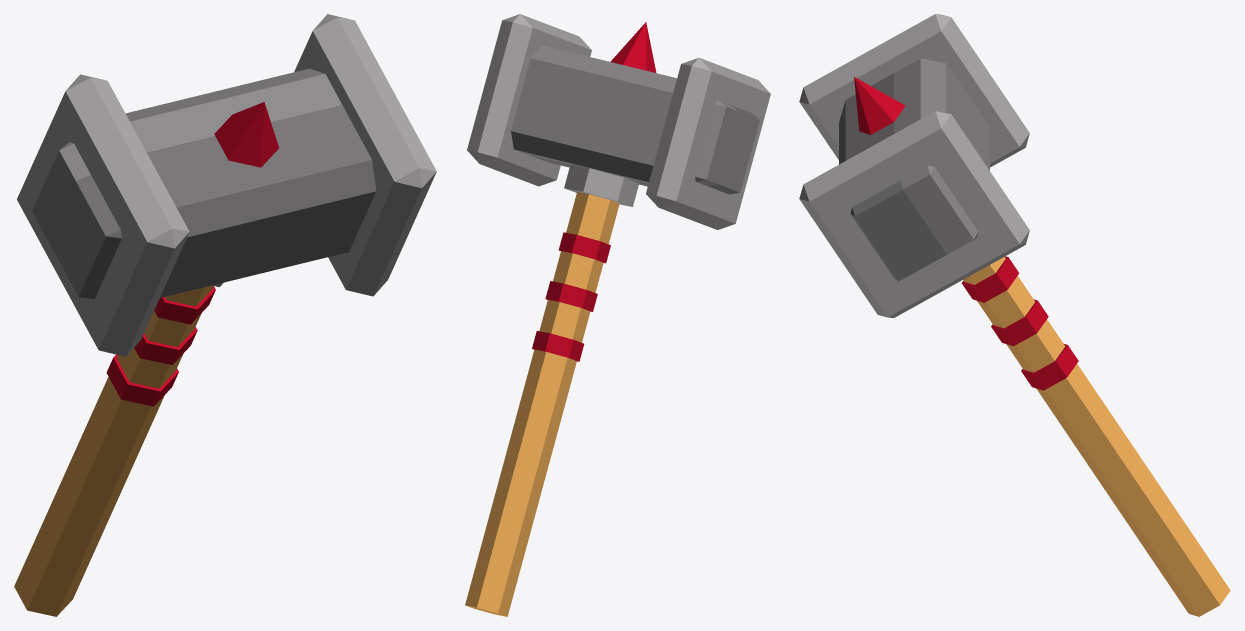
File: hammer.obj
3 views of the same model, side by side, from view 1: azimuth 30°, elevation 25°; view 2: azimuth 150°, elevation 25°; view 3: azimuth 270°, elevation 25° (orthographic). The views are drawn at different scales.
Parts seen in each view (by area): view 1: Cube.003_Cube.005, Cube.002_Cube.004, Cylinder, Cone, Cylinder.007, Cylinder.006, Cylinder.005; view 2: Cube.003_Cube.005, Cube.002_Cube.004, Cylinder, Cylinder.004, Cone, Cylinder.005, Cylinder.006, Cylinder.007; view 3: Cube.002_Cube.004, Cylinder, Cube.003_Cube.005, Cone, Cylinder.006, Cylinder.007, Cylinder.005.
Part boxes in pixels (<box>): Cube.003_Cube.005: <box>32,68,376,298</box>; Cube.002_Cube.004: <box>17,14,436,356</box>; Cylinder: <box>14,285,213,616</box>; Cone: <box>214,102,278,167</box>; Cylinder.007: <box>106,354,178,406</box>; Cylinder.006: <box>134,327,197,364</box>; Cylinder.005: <box>154,286,215,324</box>; Cube.003_Cube.005: <box>511,45,759,194</box>; Cube.002_Cube.004: <box>467,14,770,229</box>; Cylinder: <box>465,192,619,616</box>; Cylinder.004: <box>564,164,639,206</box>; Cone: <box>610,22,656,72</box>; Cylinder.005: <box>558,232,610,263</box>; Cylinder.006: <box>545,281,597,311</box>; Cylinder.007: <box>532,331,584,361</box>; Cube.002_Cube.004: <box>799,14,1029,317</box>; Cylinder: <box>963,256,1230,616</box>; Cube.003_Cube.005: <box>839,58,989,280</box>; Cone: <box>854,77,905,134</box>; Cylinder.006: <box>991,299,1048,346</box>; Cylinder.007: <box>1021,344,1078,390</box>; Cylinder.005: <box>961,256,1019,302</box>.
Size of the model in its own units: 17.91 by 37.08 by 26.3.
2 materials, 2 textured.
